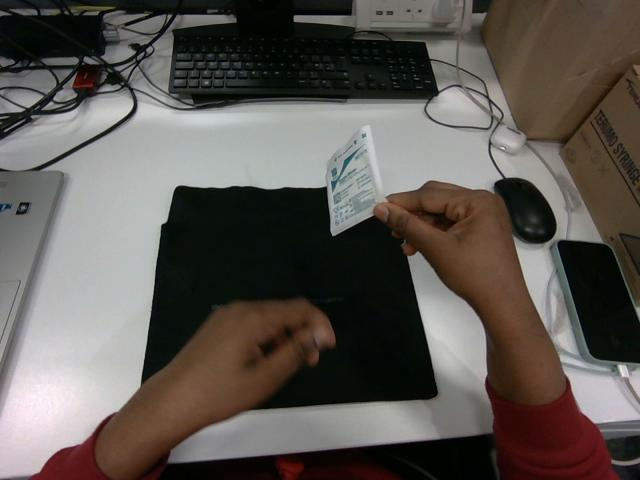gauze: (326, 126, 385, 235)
